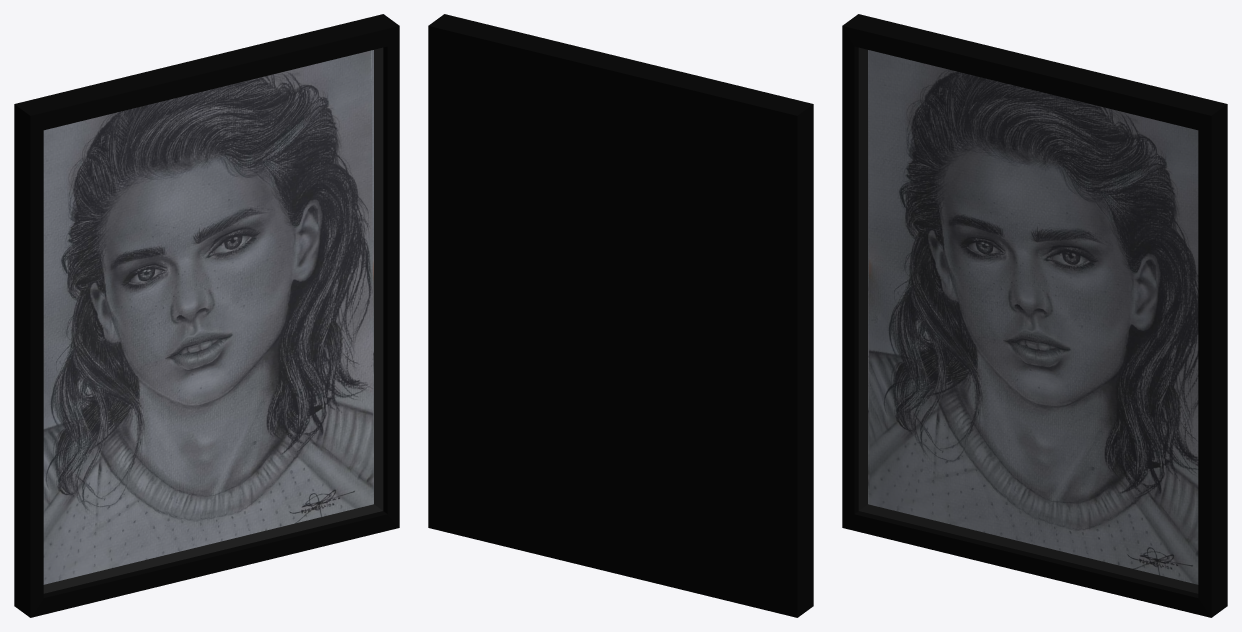
The model's file is Taylor Swift.glb.
3 renders of one model, left to right at view 1: azimuth 30°, elevation 25°; view 2: azimuth 150°, elevation 25°; view 3: azimuth 330°, elevation 25°, orthographic.
Visible parts, largest first — view 1: Cube; view 2: Cube; view 3: Cube.
Boxes of the visible parts, <box> form: Cube: <box>14,14,399,617</box>; Cube: <box>428,14,813,617</box>; Cube: <box>842,14,1227,617</box>.
Size of the model in its own units: 0.508 by 0.66 by 0.04.
3 materials, 1 textured.
